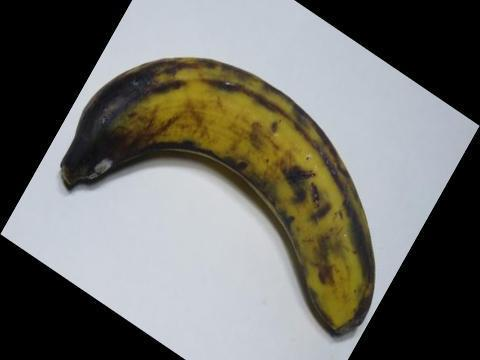overripe: (44, 51, 391, 351)
rotten: (56, 72, 214, 192)
